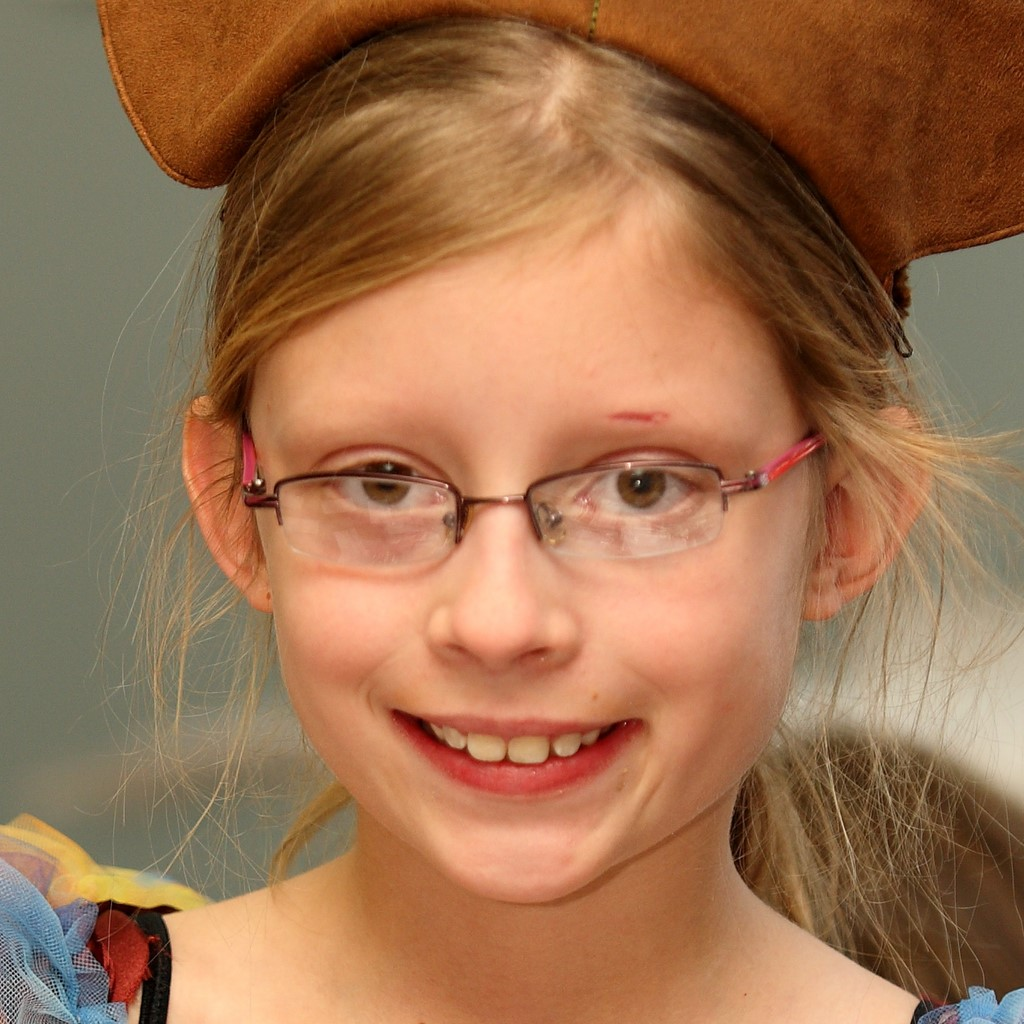sin_mascara: (270, 93, 807, 884)
